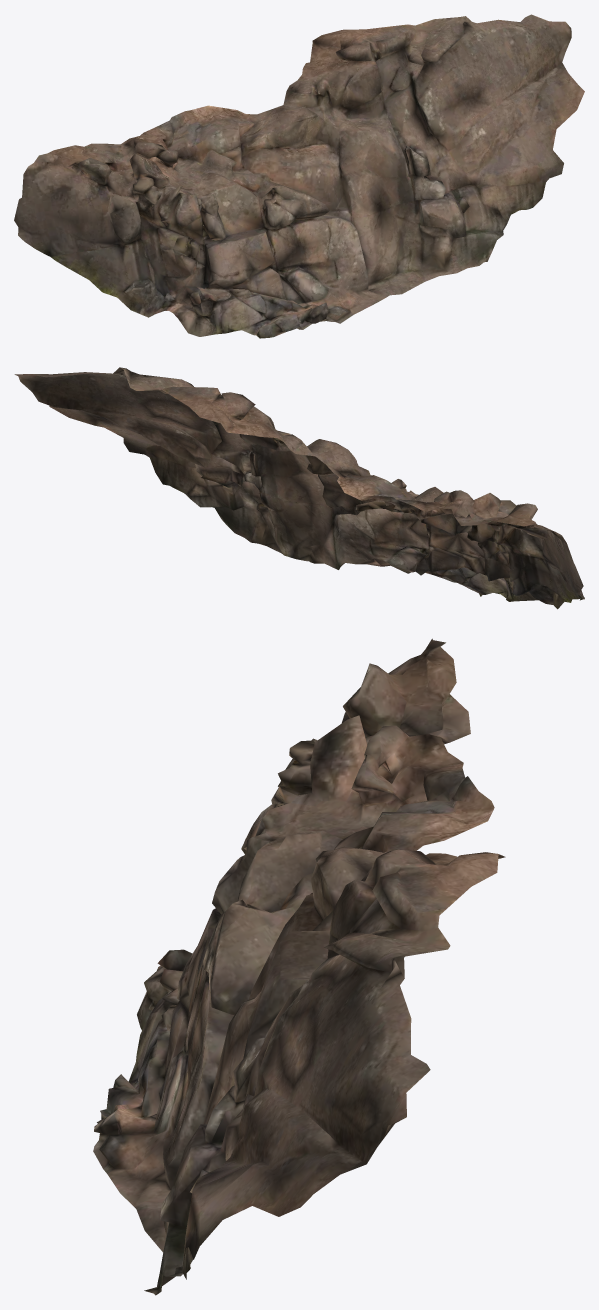
Rendered from namaqualand_cliff_02_far.glb.
The picture shows the model from 3 angles, top to bottom: view 1: azimuth 30°, elevation 25°; view 2: azimuth 150°, elevation 25°; view 3: azimuth 270°, elevation 25°; orthographic projection. The views are drawn at different scales.
Visible parts, largest first — view 1: drone_rock_02_LOD0; view 2: drone_rock_02_LOD0; view 3: drone_rock_02_LOD0.
Boxes of the visible parts, x1,y1,x2,y2 form: drone_rock_02_LOD0: (14, 14, 584, 338); drone_rock_02_LOD0: (14, 367, 584, 609); drone_rock_02_LOD0: (93, 638, 505, 1295).
Size of the model in its own units: 20.22 by 7.17 by 6.57.
1 material, 1 textured.
